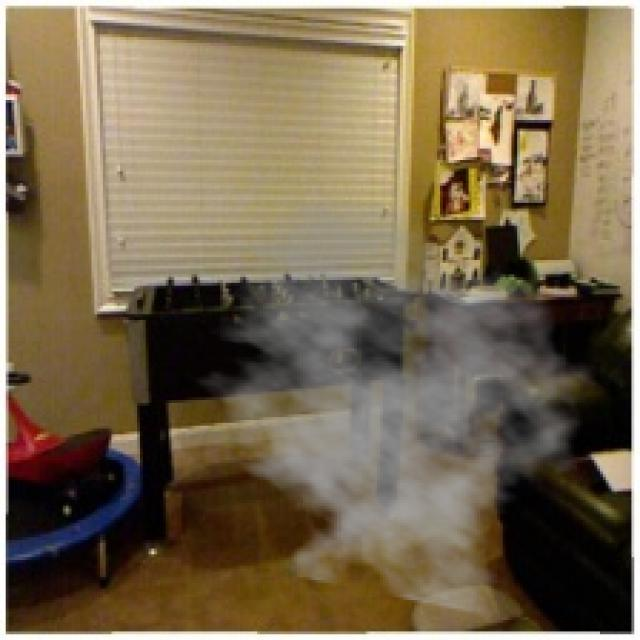smoke: (177, 194, 600, 617)
